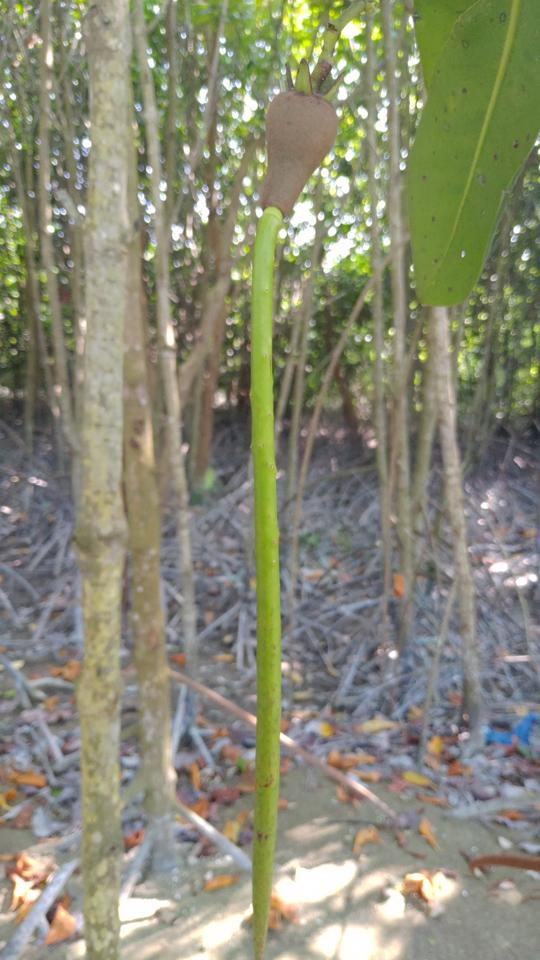setengah matang: (241, 55, 351, 956)
